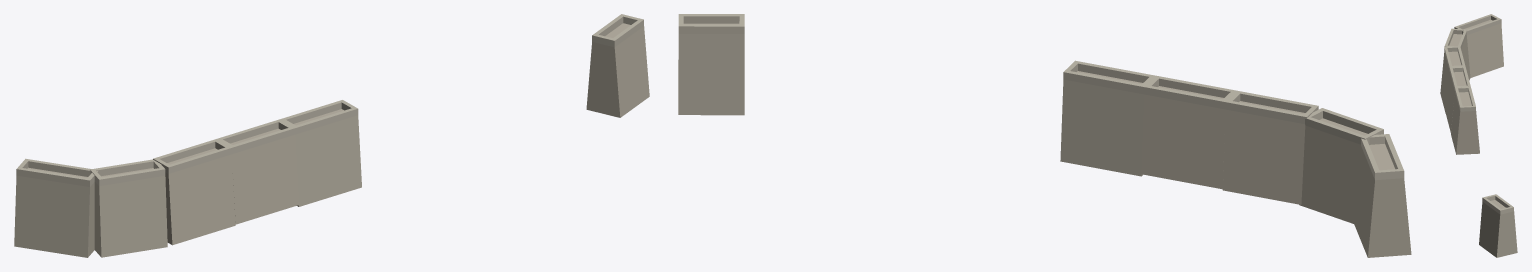
The model's file is bormla_64_32_collision.glb.
The picture shows the model from 3 angles, left to right: view 1: azimuth 30°, elevation 25°; view 2: azimuth 150°, elevation 25°; view 3: azimuth 270°, elevation 25°; orthographic projection. The views are drawn at different scales.
Parts seen in each view (by area): view 1: geometry_0; view 2: geometry_0; view 3: geometry_0.
Part boxes in pixels (bbox=[...]): geometry_0: bbox=[14, 14, 649, 257]; geometry_0: bbox=[678, 14, 1411, 257]; geometry_0: bbox=[1440, 14, 1517, 257].
Size of the model in its own units: 114 by 14.91 by 19.28.
